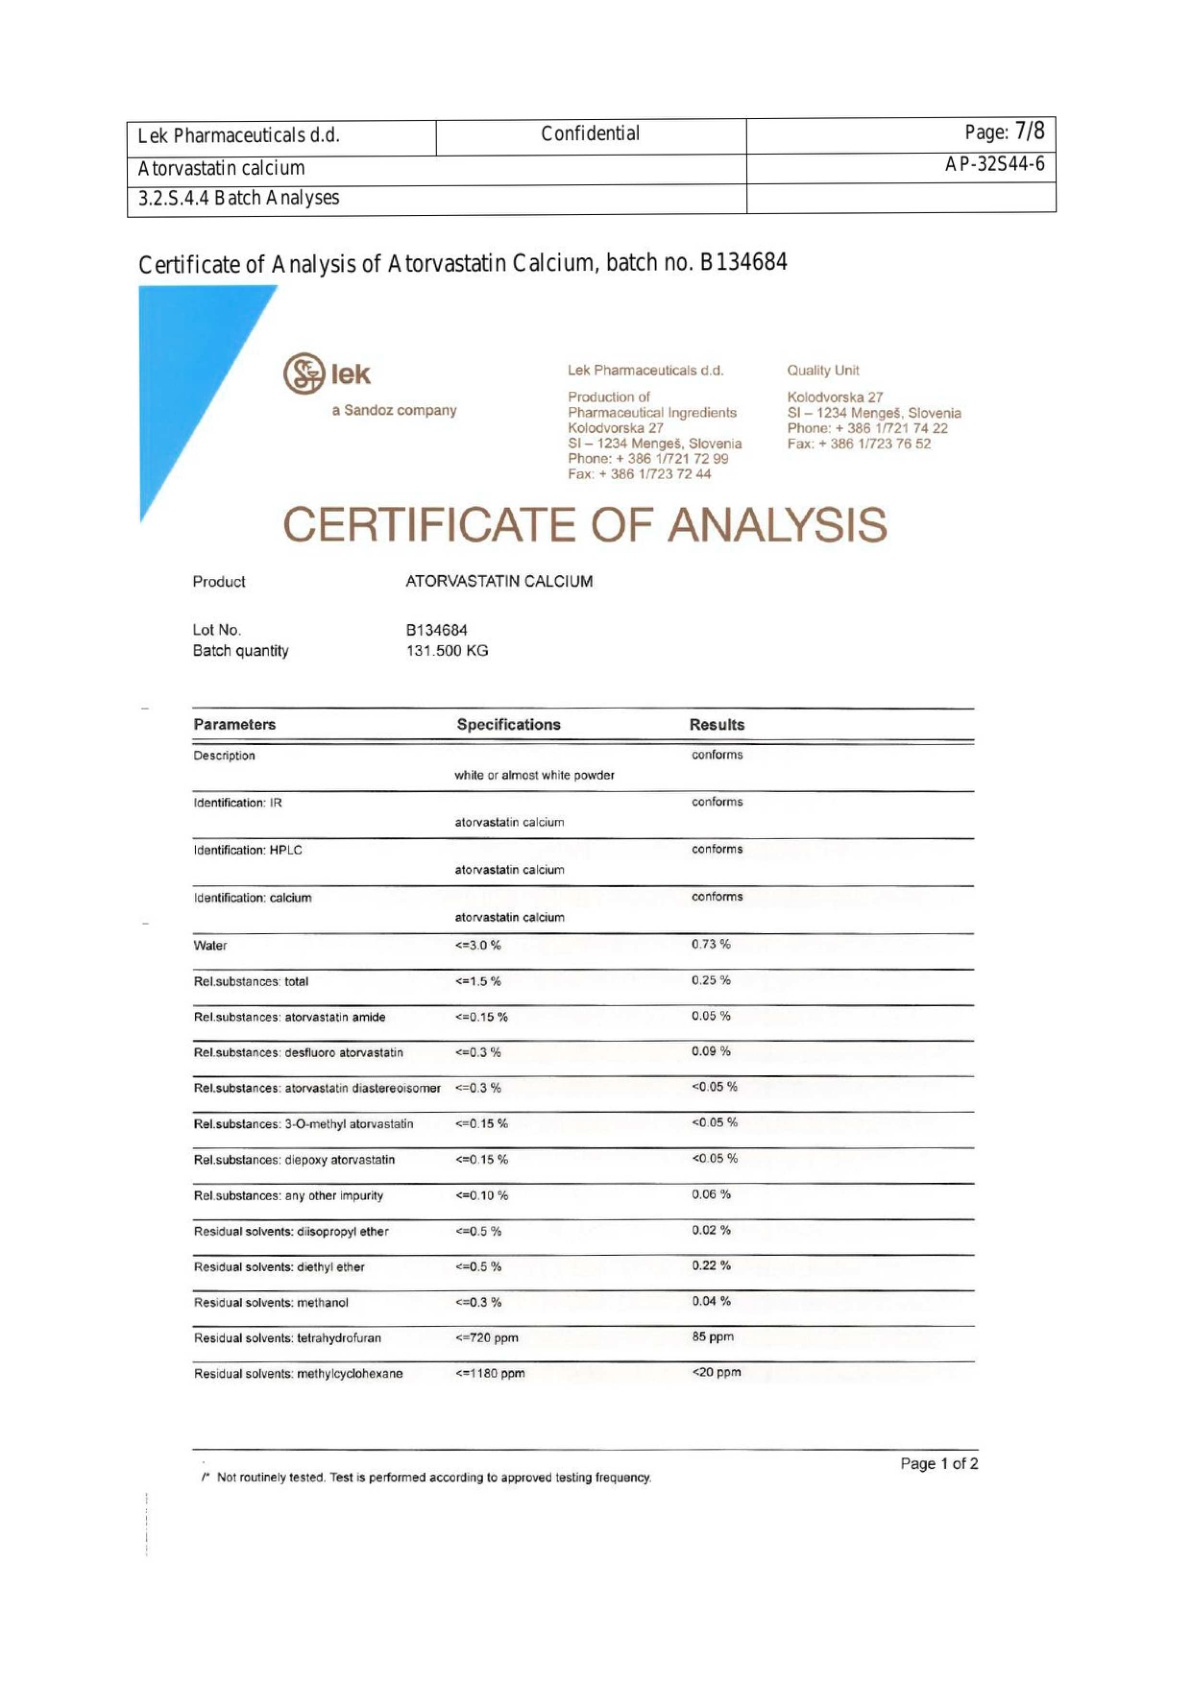merged_cells: (126, 113, 1060, 220)
partial_lined: (190, 707, 974, 1387)
